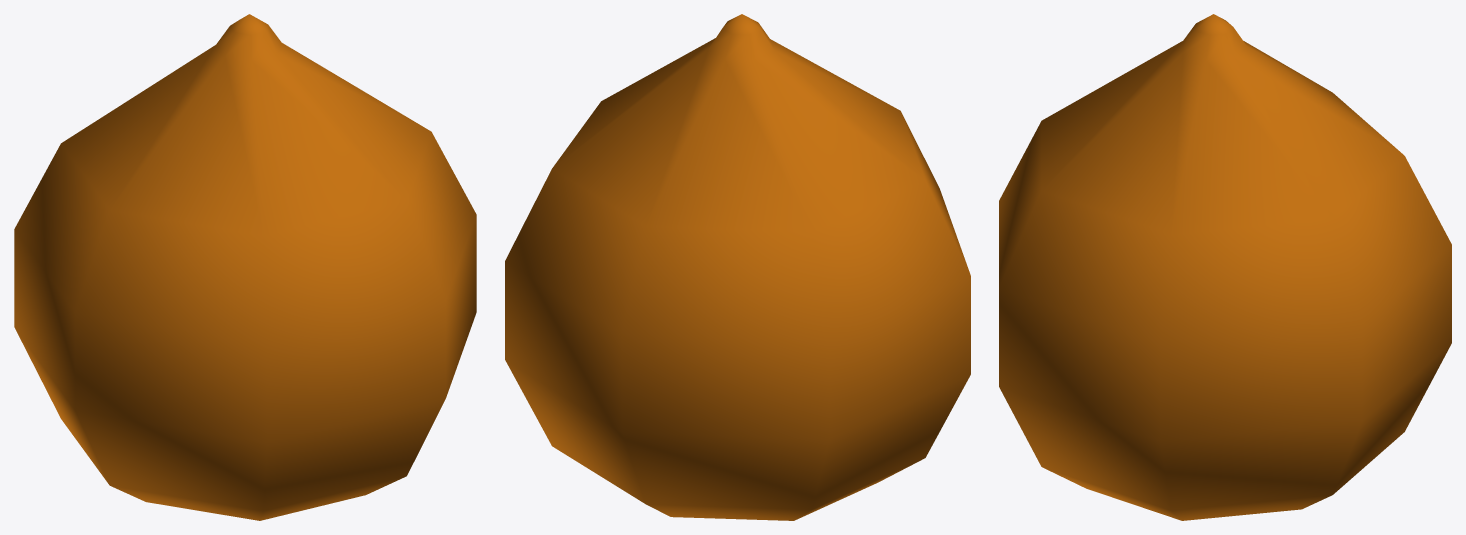
File: Onion.fbx
3 renders of one model, left to right at view 1: azimuth 30°, elevation 25°; view 2: azimuth 150°, elevation 25°; view 3: azimuth 270°, elevation 25°, orthographic.
Parts seen in each view (by area): view 1: Onion; view 2: Onion; view 3: Onion.
Part boxes in pixels (x1=…): Onion: x1=14, y1=14, x2=476, y2=520; Onion: x1=505, y1=14, x2=970, y2=520; Onion: x1=999, y1=14, x2=1451, y2=520.
Bounding box in the file's own units: 35.26 × 41.98 × 34.37.
